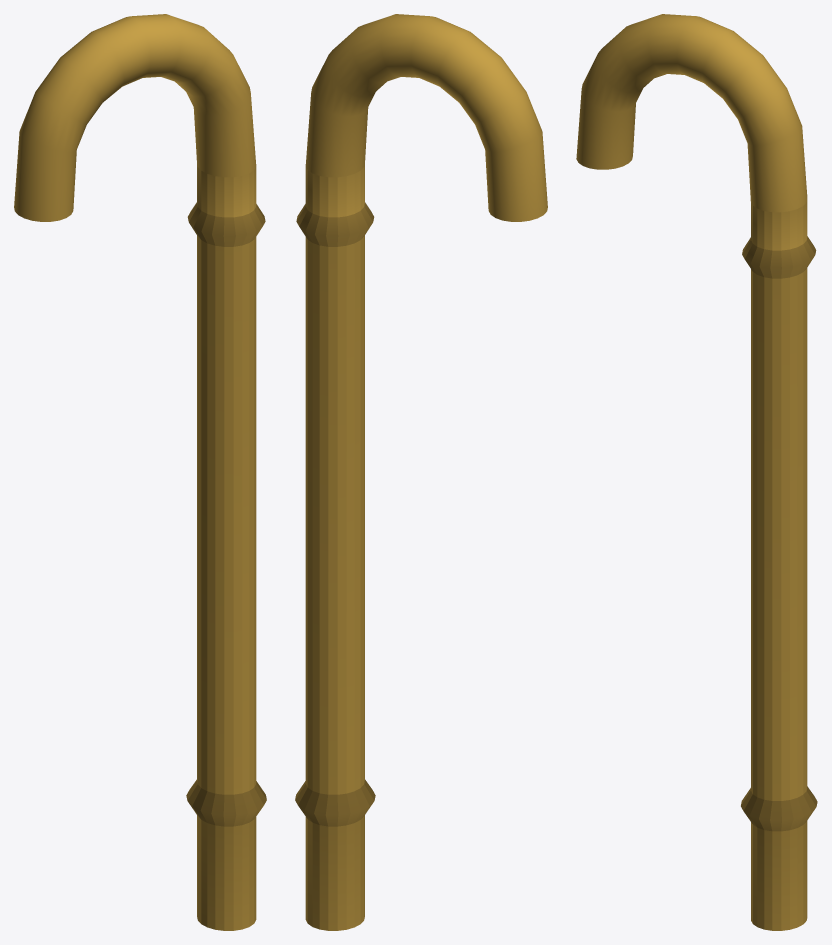
File: Tubo (con FBX).fbx
3 renders of one model, left to right at view 1: azimuth 30°, elevation 25°; view 2: azimuth 150°, elevation 25°; view 3: azimuth 330°, elevation 25°, orthographic. The views are drawn at different scales.
Parts seen in each view (by area): view 1: pTorus1; view 2: pTorus1; view 3: pTorus1.
Part boxes in pixels (bbox=[...]): pTorus1: bbox=[14, 14, 266, 930]; pTorus1: bbox=[295, 14, 547, 930]; pTorus1: bbox=[576, 14, 817, 930].
Bounding box in the file's own units: 0.5168 × 1.88 × 0.1571.
Materials: 1 (1 with a texture image).
